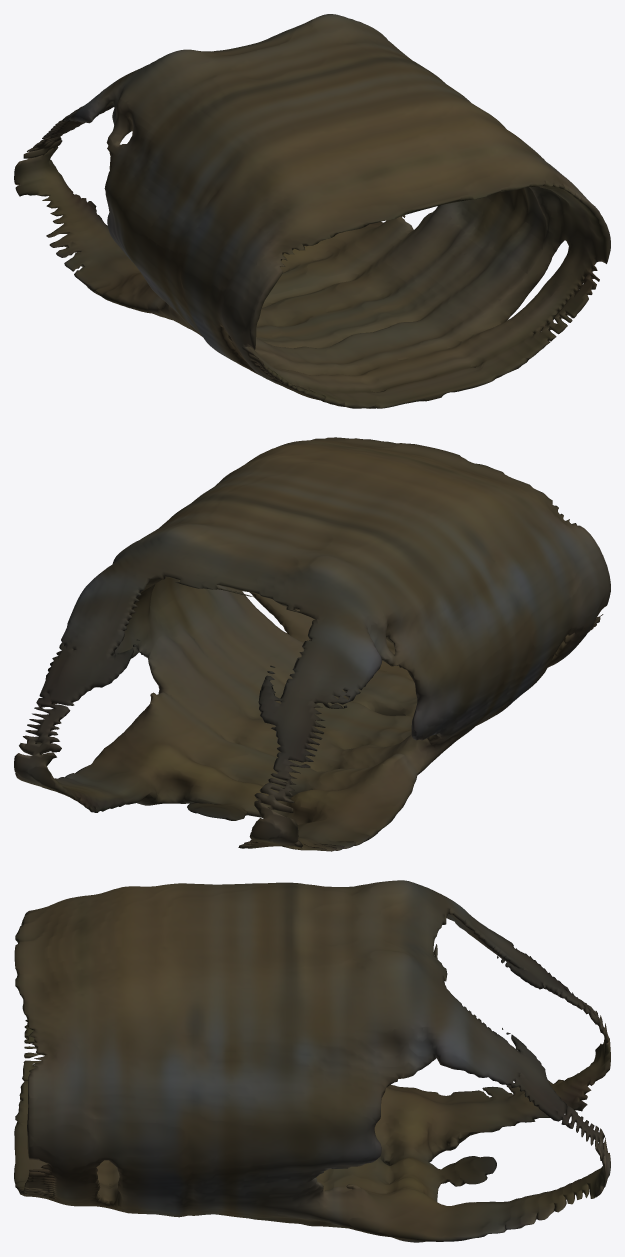
Rendered from Vest.FBX.
The picture shows the model from 3 angles, top to bottom: view 1: azimuth 30°, elevation 25°; view 2: azimuth 150°, elevation 25°; view 3: azimuth 270°, elevation 25°; orthographic projection. The views are drawn at different scales.
Parts seen in each view (by area): view 1: plyFile; view 2: plyFile; view 3: plyFile.
Part boxes in pixels (<box>): plyFile: <box>14,14,610,408</box>; plyFile: <box>14,437,610,851</box>; plyFile: <box>14,880,610,1242</box>.
Size of the model in its own units: 146 by 101 by 198.
